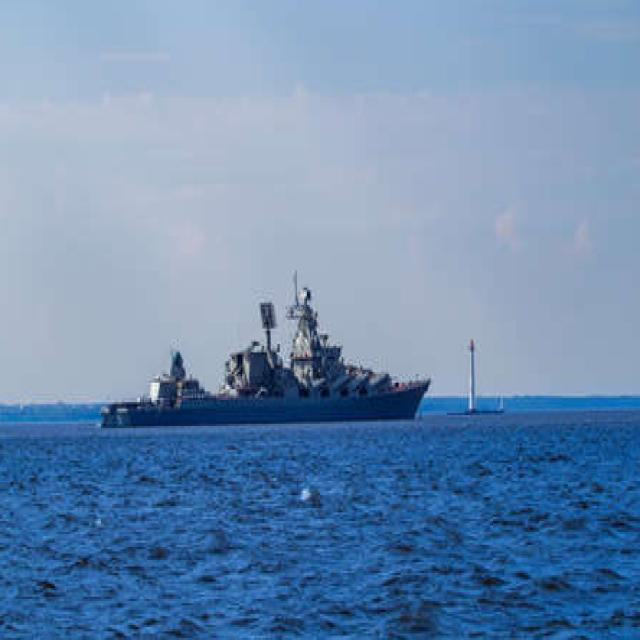navalvessels: (86, 282, 442, 462)
